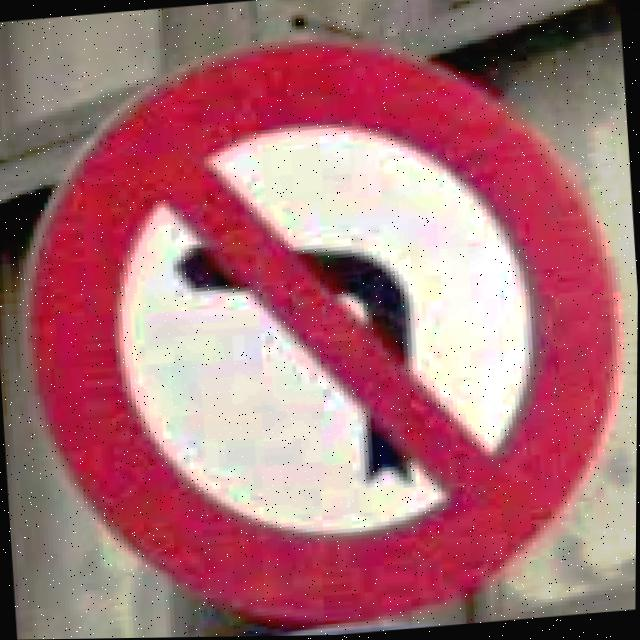noturnleft: (0, 8, 640, 640)
